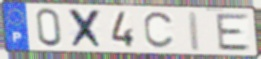0: (34, 7, 64, 50)
4: (110, 10, 137, 50)
C: (142, 11, 176, 51)
E: (214, 13, 253, 52)
I: (186, 10, 202, 53)
X: (67, 8, 106, 51)
